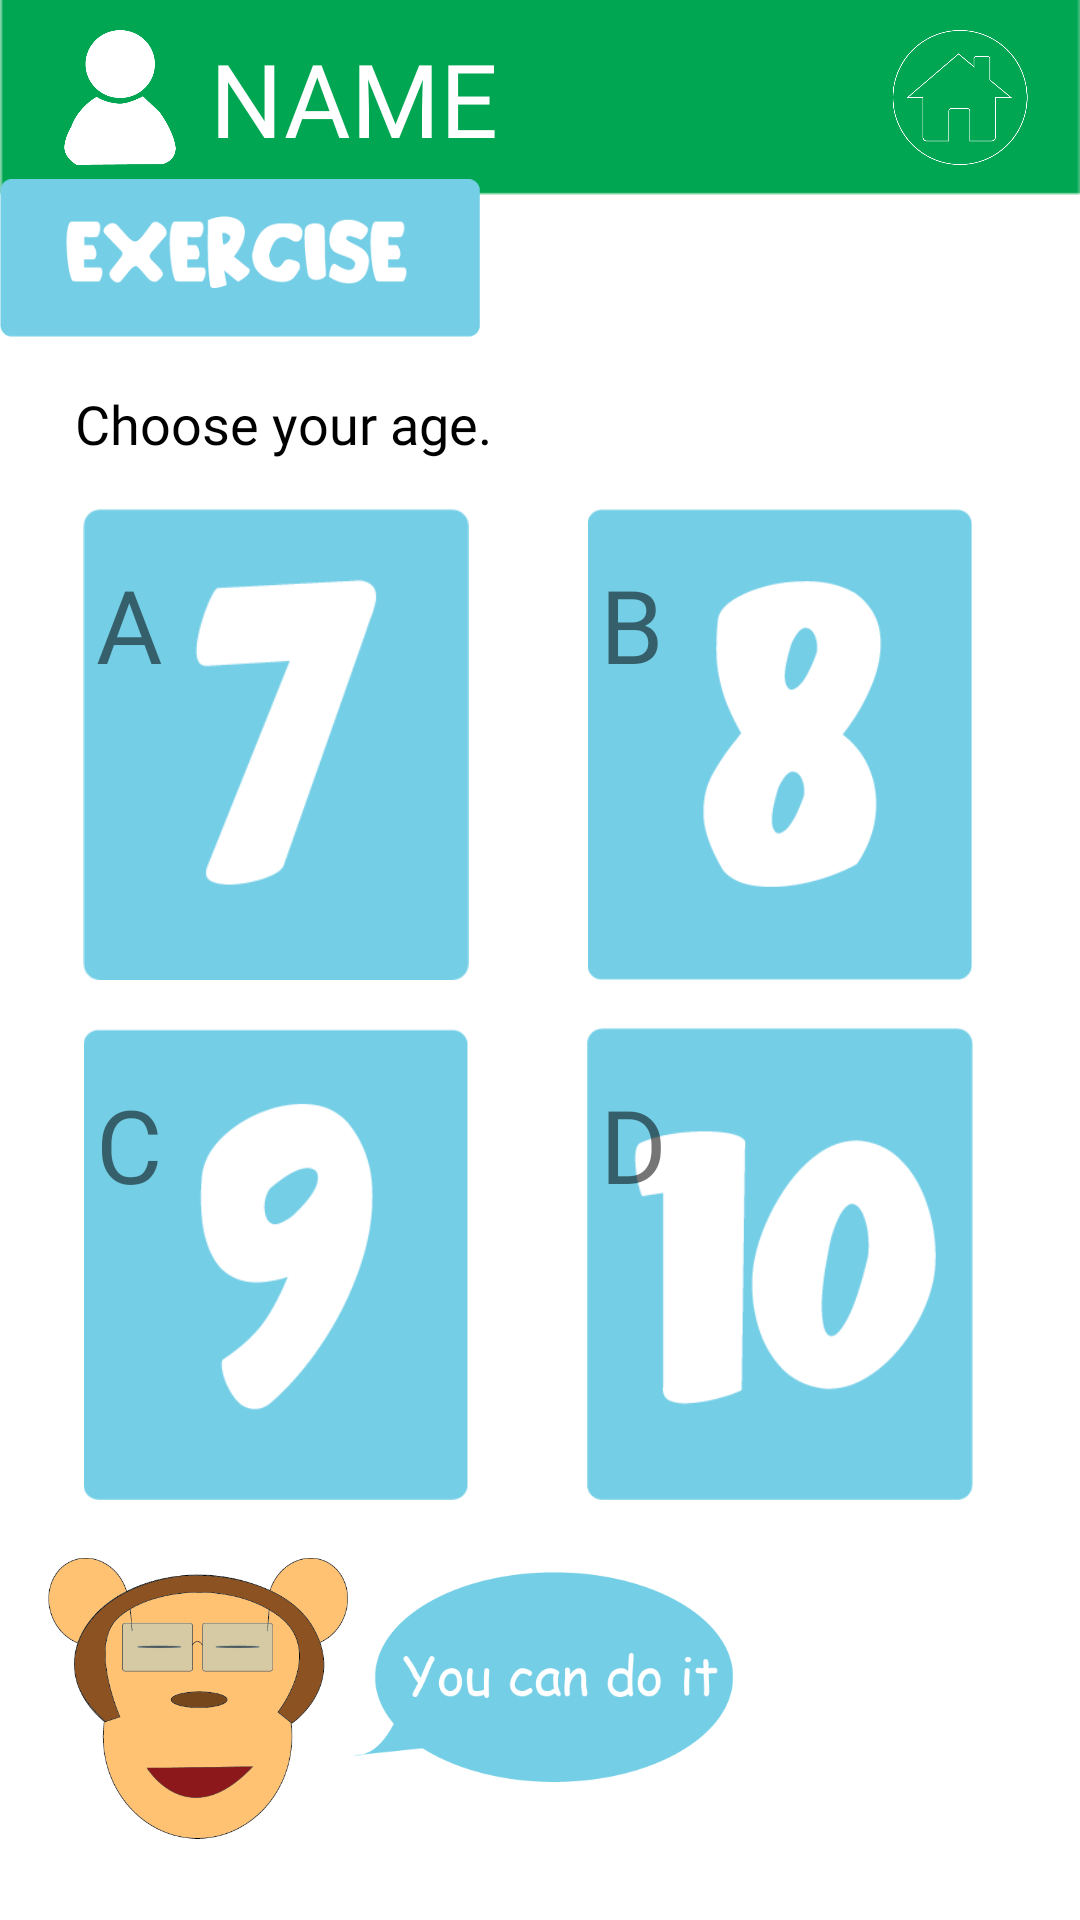

Icon bounding boxes for this 1080*1920 phone screenshot, format (x1, y1, x2, y2):
homepage: (893, 30, 1028, 165)
monkey close eyes: (48, 1558, 348, 1839)
